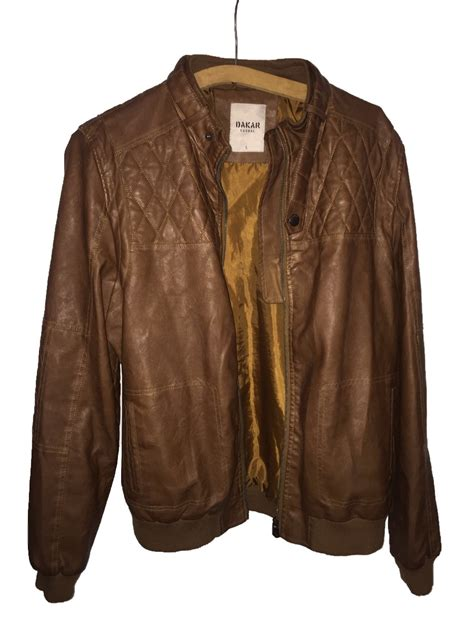cuero: (29, 54, 440, 605)
